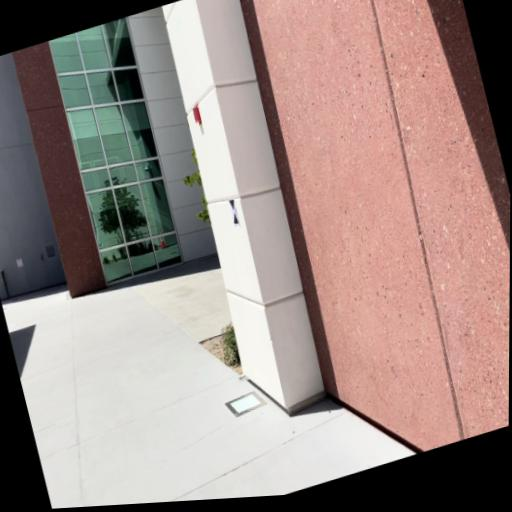target9: (229, 199, 240, 226)
